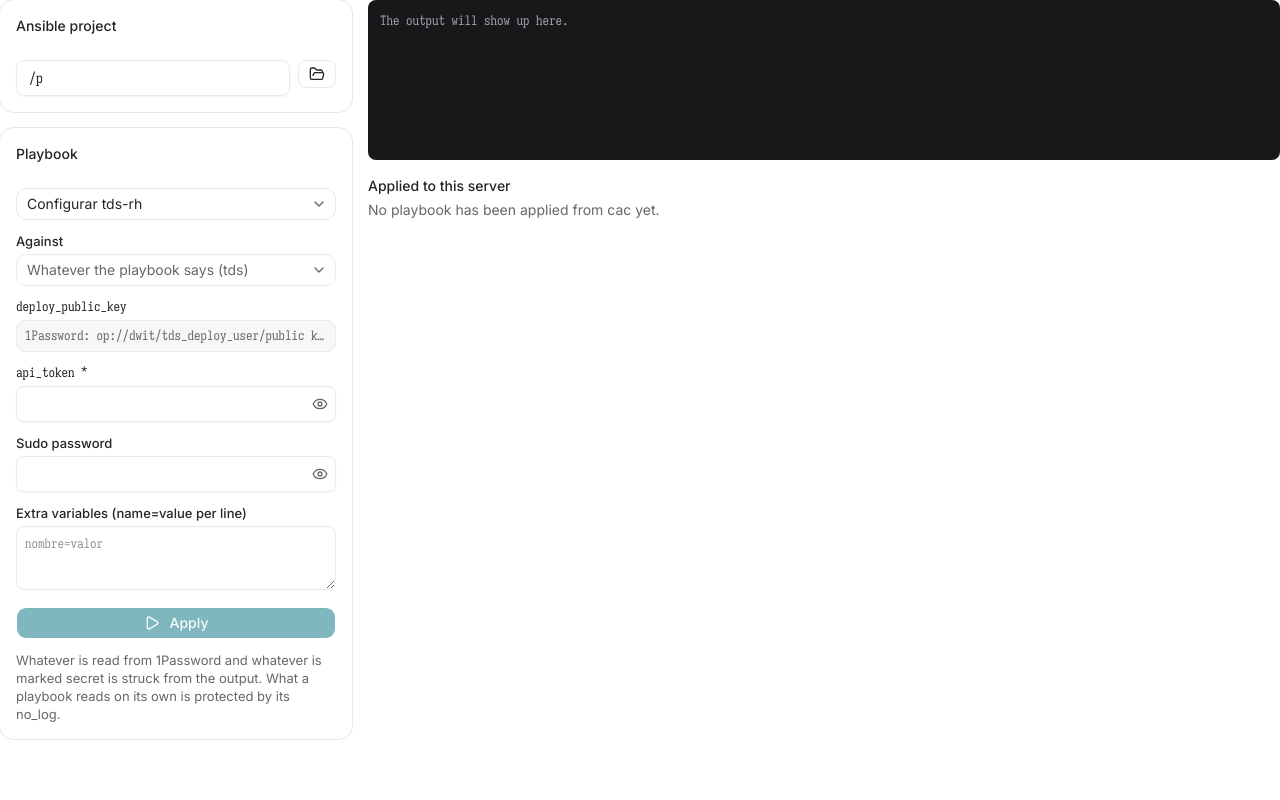
aplicar un playbook › sin una variable obligatoria o sin la contraseña de sudo no se aplica
The image size is (1280, 800).
expect the password field labelled "api_token *" is shown: met, box [16, 386, 336, 422]
// Cada una por separado: con la contraseña y sin la variable…
Type "contraseña-de-sudo" into the password field labelled "Sudo password" at coordinates (176, 474), box [16, 456, 336, 492]
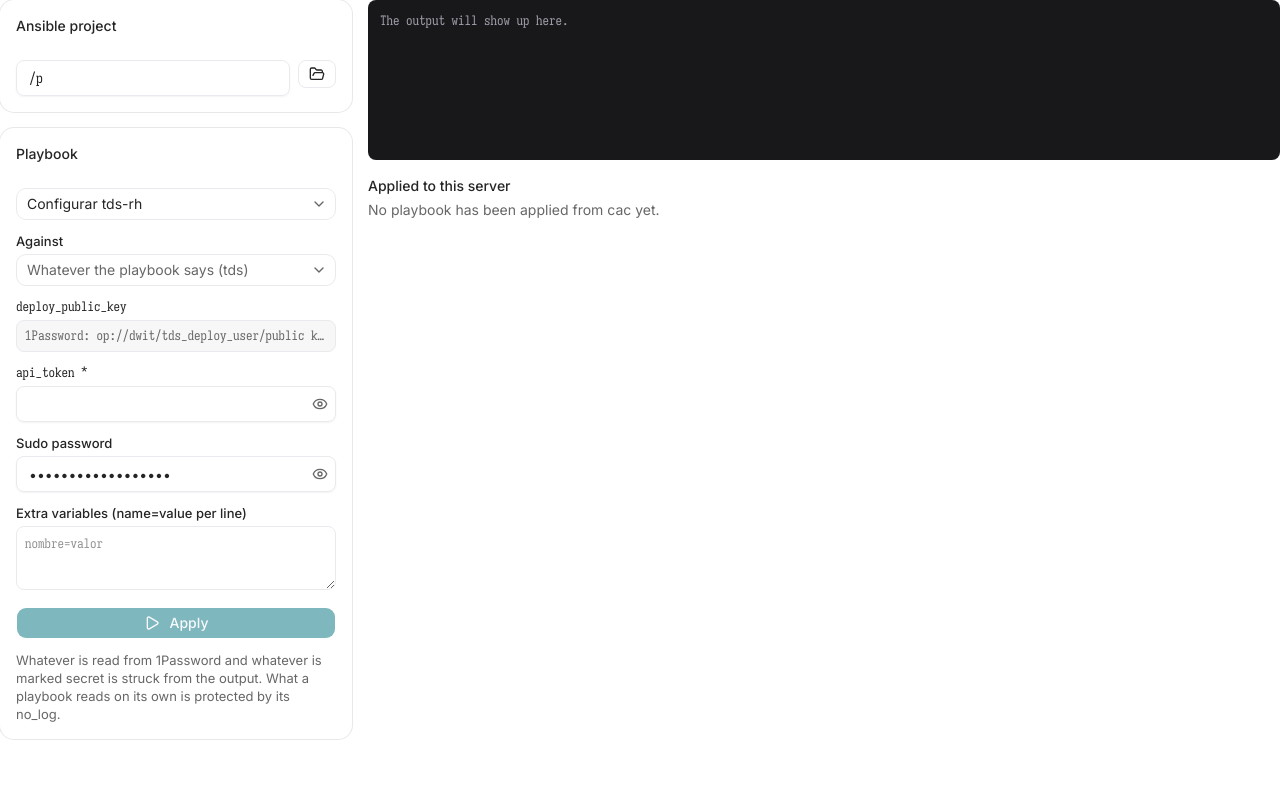
expect the button "Apply" is disabled: met, box [16, 607, 336, 639]
Type "valor-secreto-del-token" into the password field labelled "api_token *" at coordinates (176, 404), box [16, 386, 336, 422]
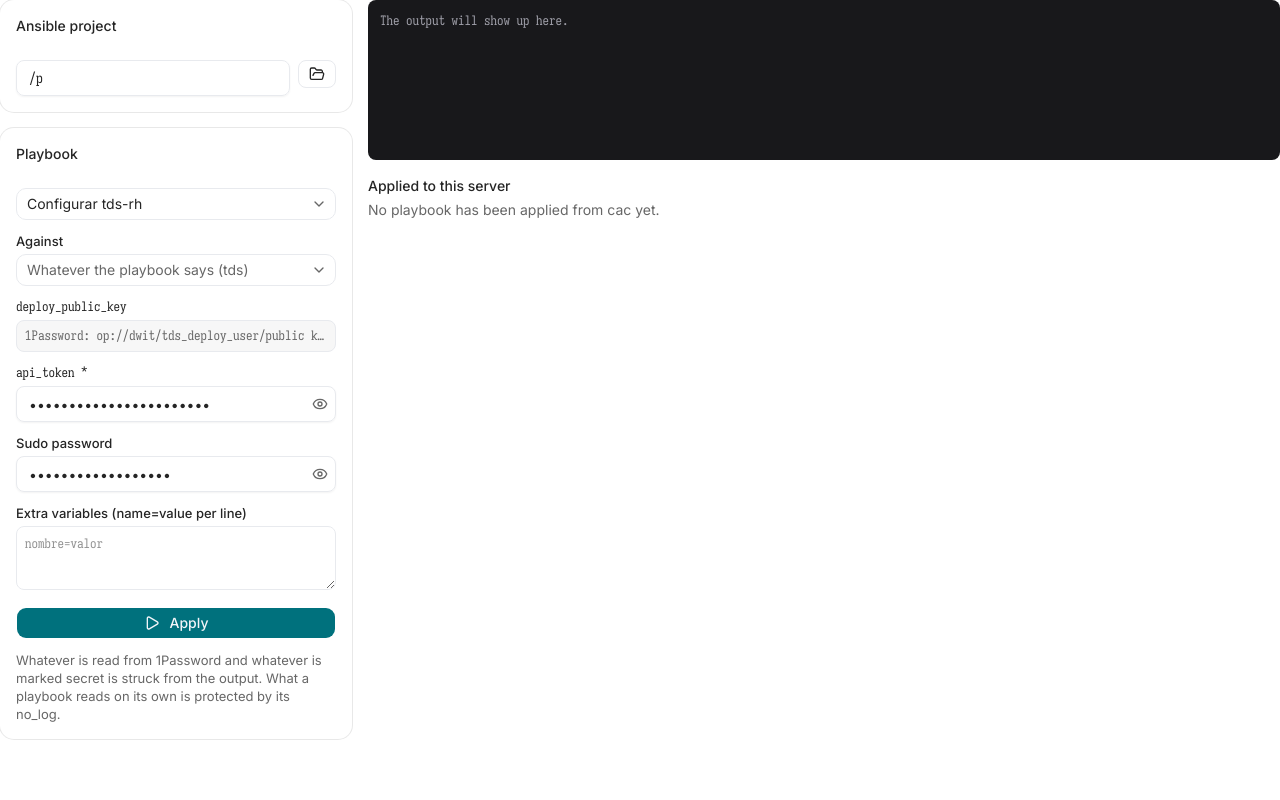
expect the button "Apply" is enabled: met, box [16, 607, 336, 639]
Clear the password field labelled "Sudo password" at coordinates (176, 474), box [16, 456, 336, 492]
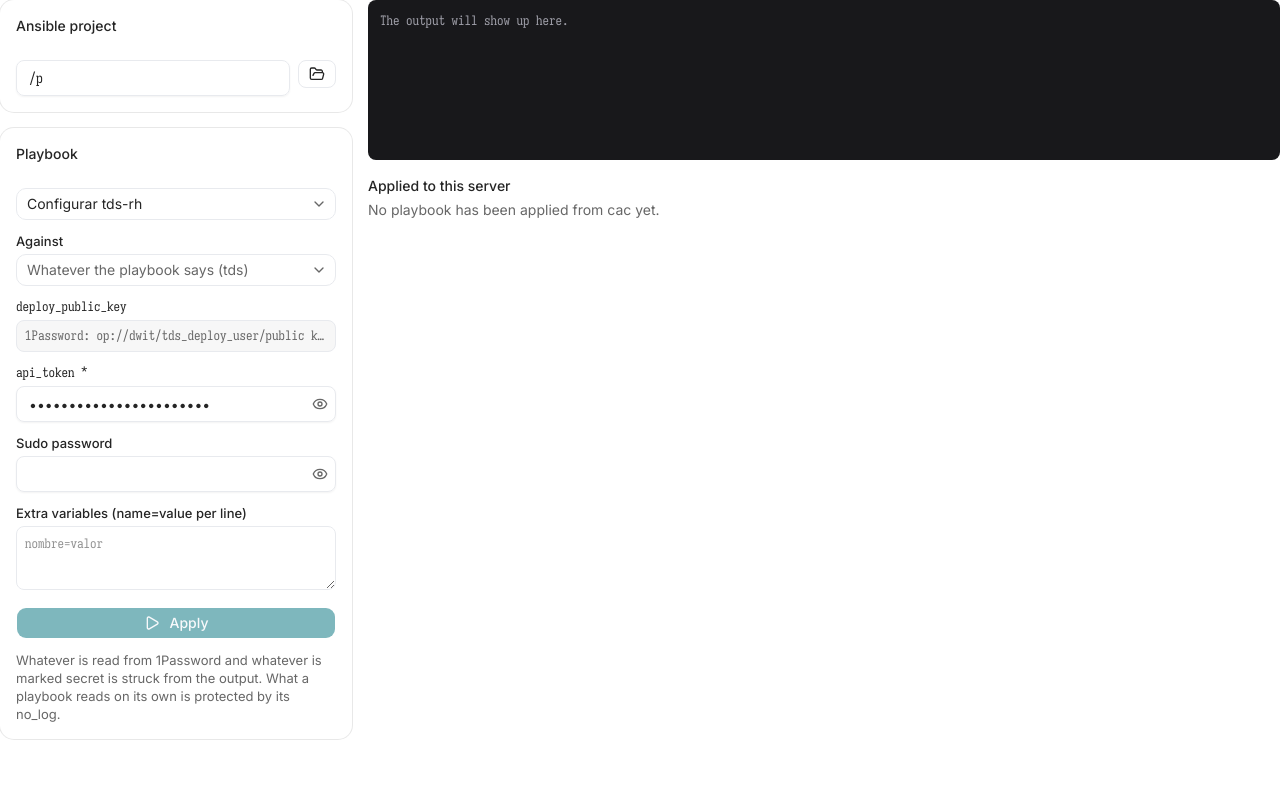
expect the button "Apply" is disabled: met, box [16, 607, 336, 639]
